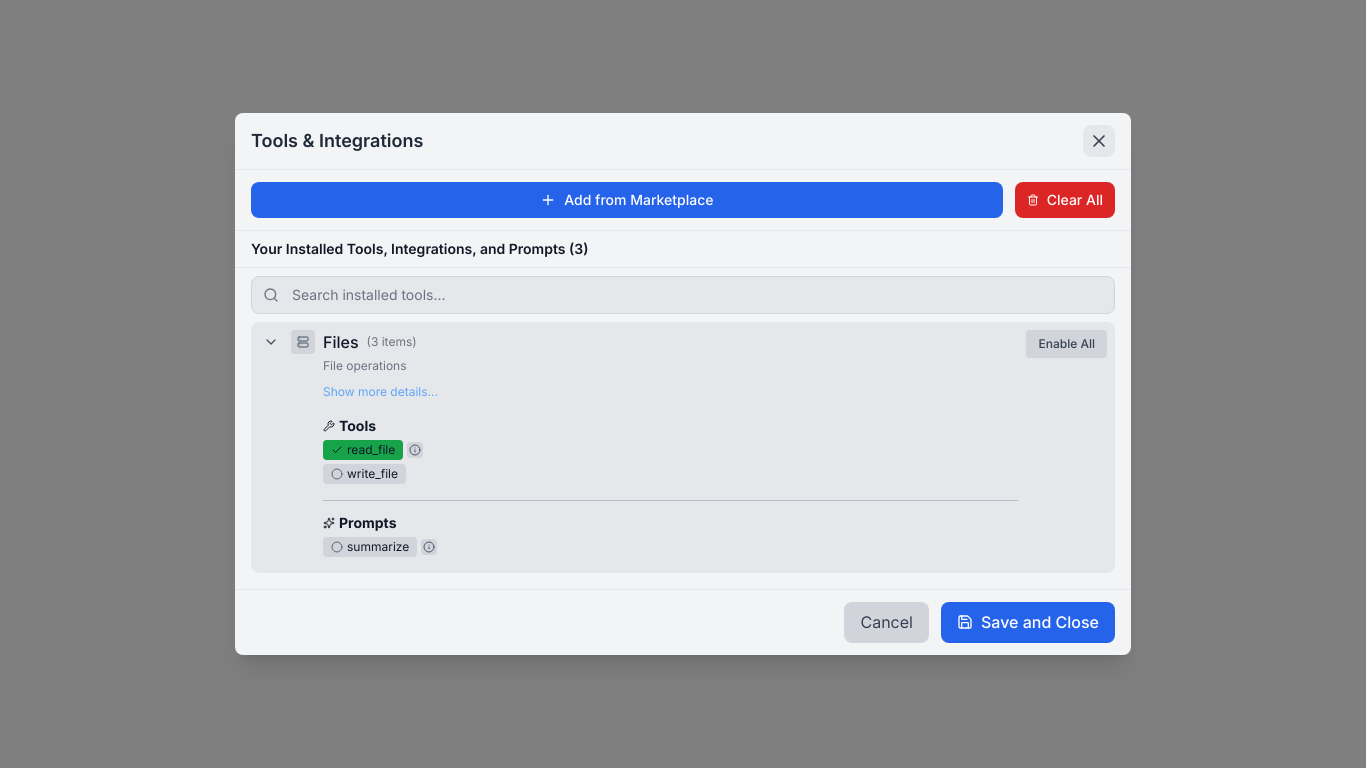
Test: ToolsPanel - control semantics › names the details and collapse buttons and reports aria-expanded
Click the button named "Show details for read_file": (415, 450) [407, 442, 423, 458]
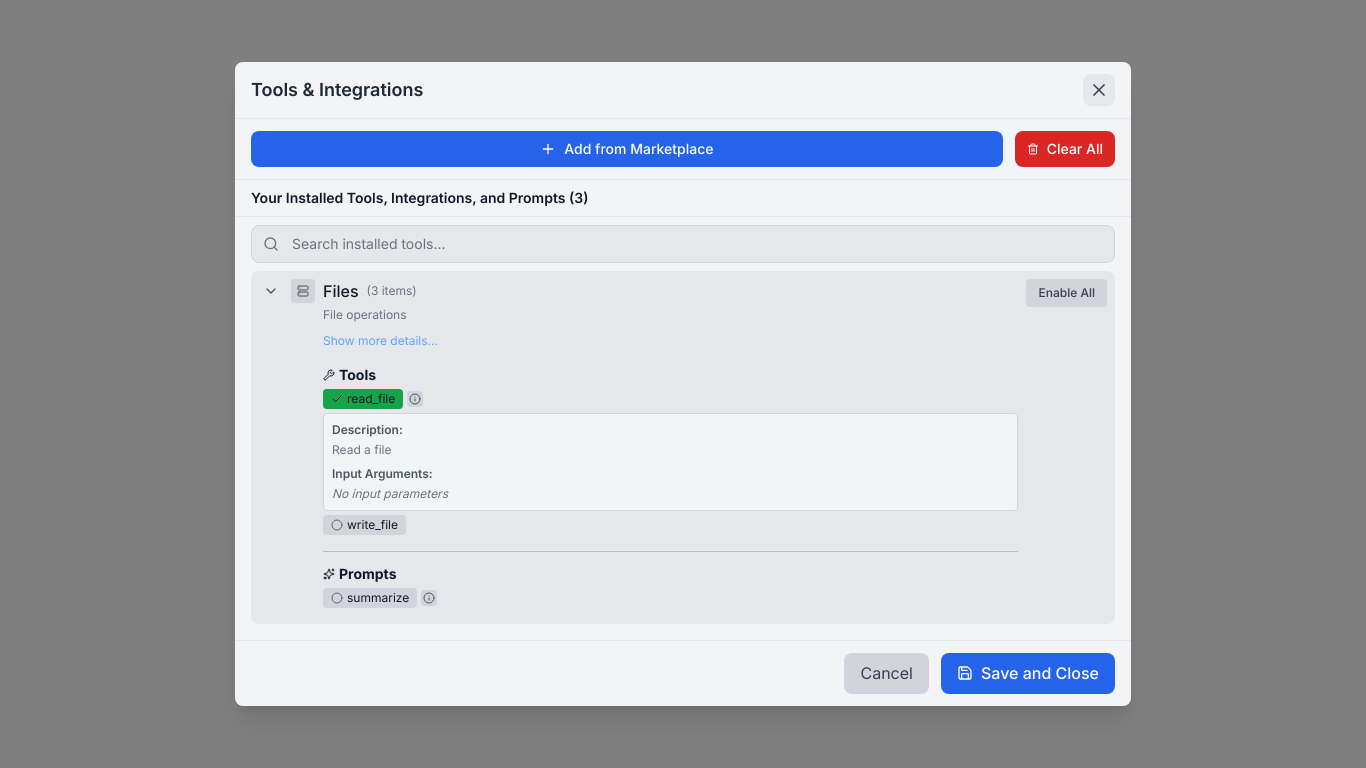
Now the button named "Hide details for read_file" is expanded, box [407, 390, 423, 406]
Click the button named "Collapse files": (271, 291) [259, 279, 283, 303]
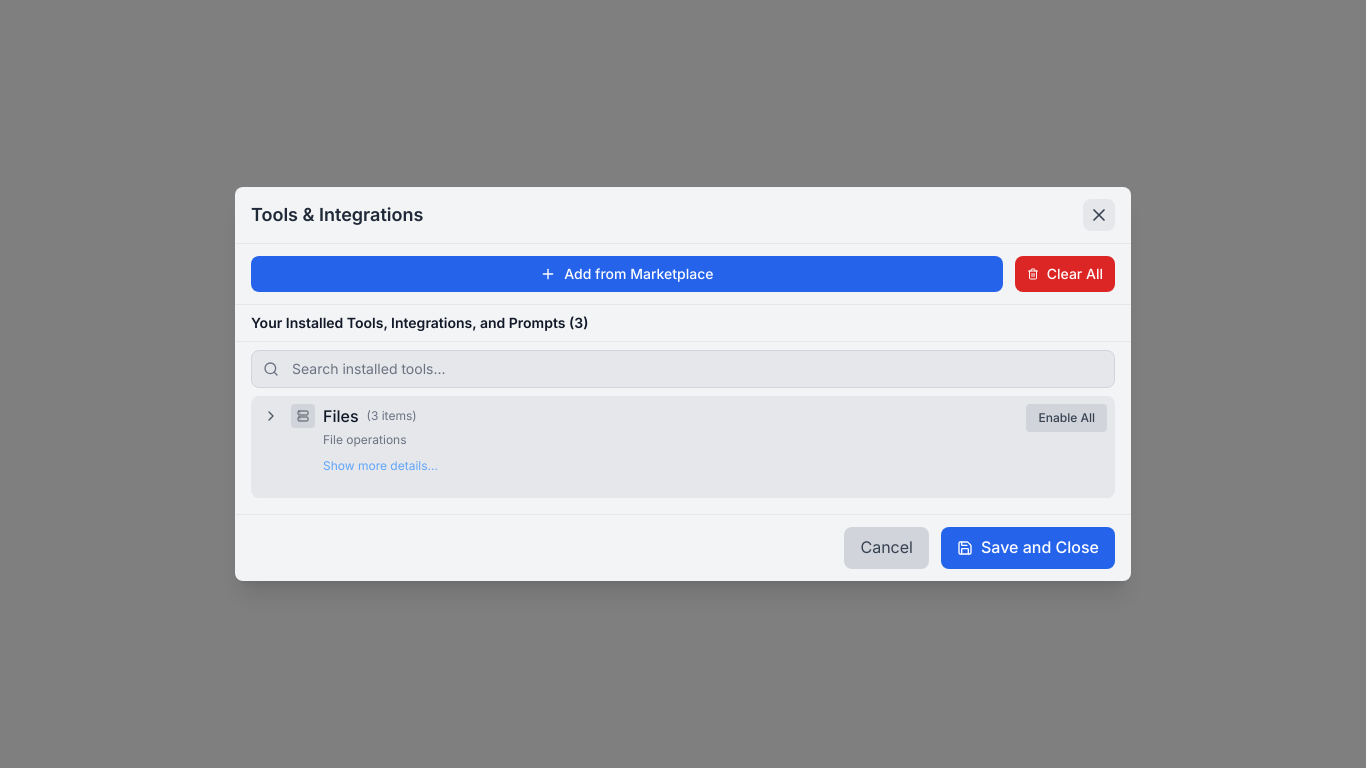
Now the button named "Expand files" is collapsed, box [259, 404, 283, 428]
